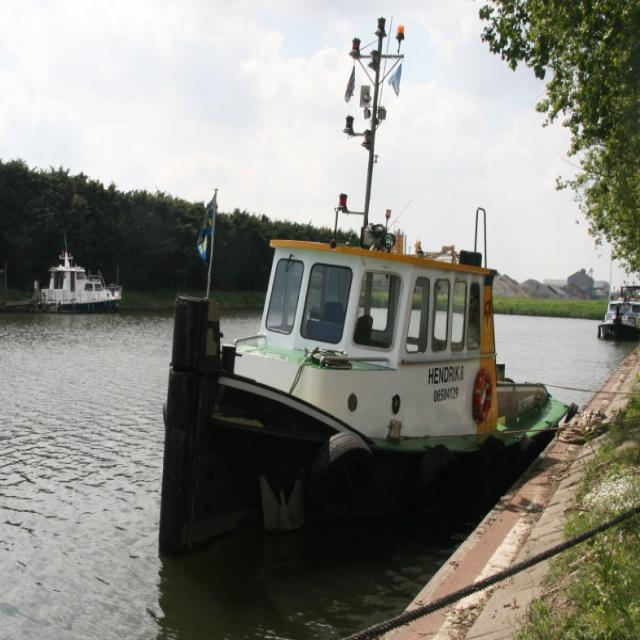tugboat: (160, 176, 582, 563)
